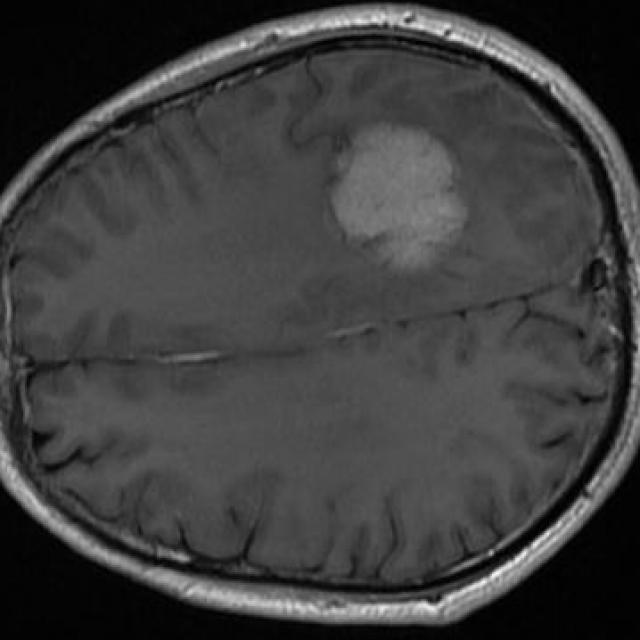meningioma: (330, 125, 467, 269)
